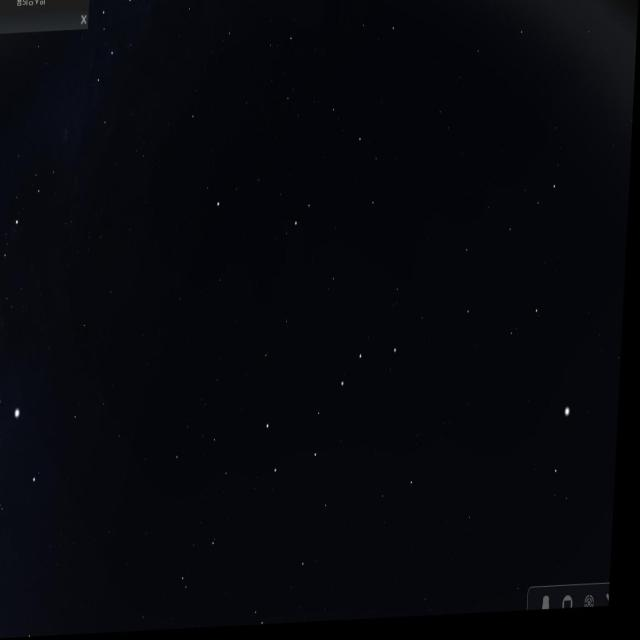cassiopeia: (83, 0, 150, 158)
ursa_major: (268, 343, 402, 492)
